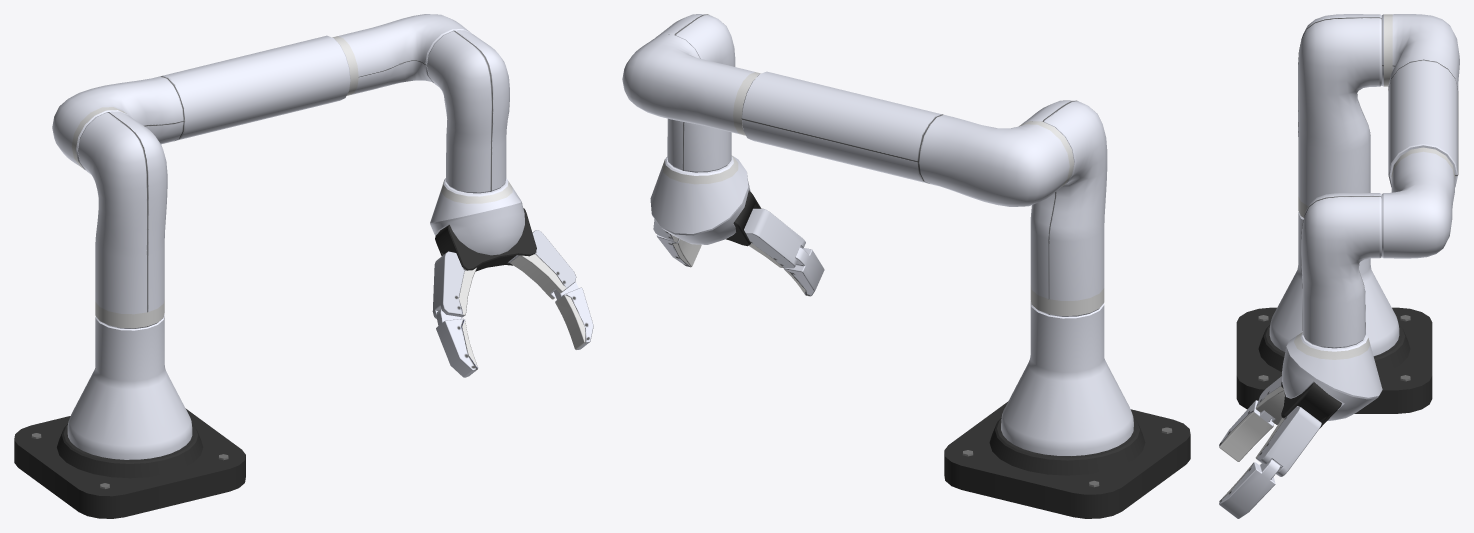
File: Robotarm.fbx
3 views of the same model, side by side, from view 1: azimuth 30°, elevation 25°; view 2: azimuth 150°, elevation 25°; view 3: azimuth 270°, elevation 25° (orthographic). The views are drawn at different scales.
Visible parts, largest first — view 1: RobotArm_2, RobotArm_1, RobotBase, RobotArm_0, RobotArm_4, RobotArm_Grip, RobotArm_3, RobotFinger_AR, RobotFinger_AL, RobotFinger_BL, RobotFinger_BR; view 2: RobotArm_2, RobotBase, RobotArm_0, RobotArm_1, RobotArm_3, RobotArm_Grip, RobotArm_4, RobotFinger_AL, RobotFinger_BL, RobotFinger_BR; view 3: RobotArm_1, RobotArm_4, RobotArm_2, RobotBase, RobotArm_3, RobotArm_Grip, RobotArm_0, RobotFinger_AR, RobotFinger_BR, RobotFinger_BL, RobotFinger_AL.
Part boxes in pixels (box(x1,y1,x2,y2)): RobotArm_2: box(52, 35, 350, 170); RobotArm_1: box(78, 111, 167, 328); RobotBase: box(14, 408, 245, 518); RobotArm_0: box(67, 314, 192, 459); RobotArm_4: box(426, 30, 509, 193); RobotArm_Grip: box(430, 178, 536, 271); RobotArm_3: box(332, 14, 471, 95); RobotFinger_AR: box(508, 230, 576, 299); RobotFinger_AL: box(432, 251, 476, 318); RobotFinger_BL: box(436, 309, 477, 377); RobotFinger_BR: box(553, 281, 593, 349); RobotArm_2: box(741, 71, 1074, 206); RobotBase: box(944, 402, 1190, 518); RobotArm_0: box(1001, 301, 1133, 455); RobotArm_1: box(1021, 100, 1107, 316); RobotArm_3: box(622, 34, 760, 135); RobotArm_Grip: box(650, 155, 761, 246); RobotArm_4: box(655, 14, 735, 172); RobotFinger_AL: box(744, 208, 805, 268); RobotFinger_BL: box(783, 247, 824, 296); RobotFinger_BR: box(656, 234, 701, 267); RobotArm_1: box(1298, 14, 1381, 218); RobotArm_4: box(1301, 193, 1381, 348); RobotArm_2: box(1382, 14, 1459, 187); RobotBase: box(1236, 307, 1432, 413); RobotArm_3: box(1382, 147, 1455, 258); RobotArm_Grip: box(1281, 332, 1382, 428); RobotArm_0: box(1269, 212, 1399, 355); RobotFinger_AR: box(1255, 406, 1321, 476); RobotFinger_BR: box(1219, 459, 1280, 518); RobotFinger_BL: box(1219, 400, 1274, 461); RobotFinger_AL: box(1255, 376, 1284, 424).
Bounding box in the file's own units: 1 × 0.6624 × 0.4066.
